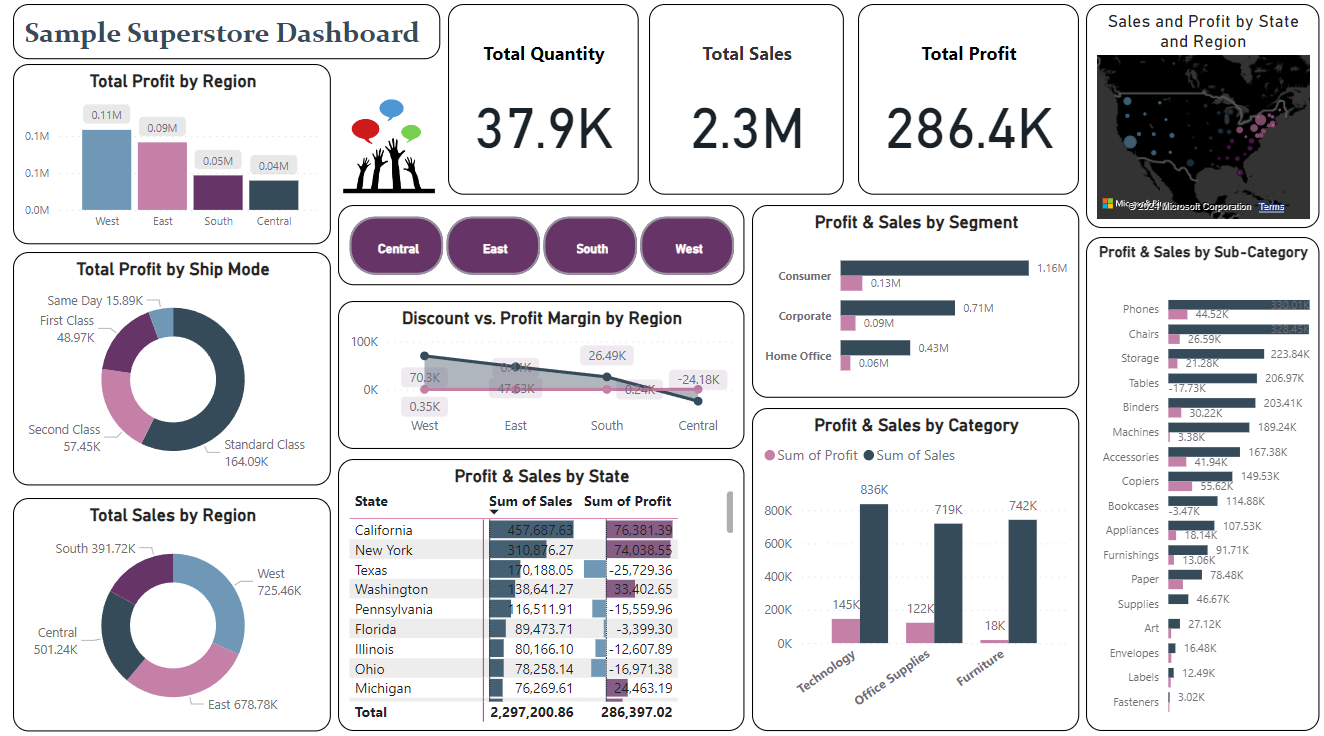

This screenshot's page, from the dashboard's own definition file:
{"tool":"powerbi","page":{"name":"Page 1","canvas":[1280,720],"ordinal":0},"visuals":[{"type":"map","fields":{"Category":["SampleSuperstore.State"],"Size":["Sum(SampleSuperstore.Sales)"],"Series":["SampleSuperstore.Region"]},"box":[1041.9,9.7,223.5,214.8],"z":0},{"type":"clusteredBarChart","title":"Profit vs. Sales by Segment","fields":{"Category":["SampleSuperstore.Segment"],"Y":["Sum(SampleSuperstore.Sales)","Sum(SampleSuperstore.Profit)"]},"box":[714.4,233.3,313.9,153.6],"z":1000},{"type":"donutChart","title":"Sales by Region","fields":{"Y":["Sum(SampleSuperstore.Sales)"],"Category":["SampleSuperstore.Region"]},"box":[12.6,484,305.2,223.5],"z":2000},{"type":"actionButton","box":[0,0,100,40],"z":3000},{"type":"cardVisual","fields":{"Data":["Sum(SampleSuperstore.Sales)"]},"box":[625.9,9.7,176.9,214.8],"z":4000},{"type":"clusteredBarChart","title":"Profit vs. Sales by Sub-Category ","fields":{"Category":["SampleSuperstore.Sub-Category"],"Y":["Sum(SampleSuperstore.Sales)","Sum(SampleSuperstore.Profit)"]},"box":[1041.9,233.3,223.5,474.3],"z":5000},{"type":"areaChart","title":"Discount vs. Profit by Region","fields":{"Category":["SampleSuperstore.Region"],"Y":["Sum(SampleSuperstore.Profit Margin)","Sum(SampleSuperstore.Discount)"]},"box":[324.6,555.9,372.2,151.6],"z":6000},{"type":"pieChart","title":"Profit by State","fields":{"Y":["Sum(SampleSuperstore.Profit)"],"Category":["SampleSuperstore.State"]},"box":[324.6,317.8,372.2,224.5],"z":7000},{"type":"cardVisual","fields":{"Data":["Sum(SampleSuperstore.Quantity)"]},"box":[429.6,9.7,182.7,214.8],"z":8000},{"type":"donutChart","title":"Profit by Ship Mode","fields":{"Y":["Sum(SampleSuperstore.Profit)"],"Category":["SampleSuperstore.Ship Mode"]},"box":[12.6,247.8,305.2,223.5],"z":9000},{"type":"cardVisual","fields":{"Data":["Sum(SampleSuperstore.Profit)"]},"box":[816.4,9.7,211.9,214.8],"z":10000},{"type":"advancedSlicerVisual","fields":{"Values":["SampleSuperstore.Region"]},"box":[324.6,233.3,372.2,76.8],"z":11000},{"type":"columnChart","title":"Profit by Region","fields":{"Category":["SampleSuperstore.Region"],"Y":["Sum(SampleSuperstore.Profit)"],"Series":["SampleSuperstore.Region"]},"box":[12.6,67.1,305.2,173],"z":12000},{"type":"textbox","box":[12.6,9.7,410.1,53.5],"z":13000},{"type":"image","box":[324.6,67.1,98.2,157.4],"z":14000},{"type":"clusteredColumnChart","title":"Profit vs. Sales by Category","fields":{"Y":["Sum(SampleSuperstore.Profit)","Sum(SampleSuperstore.Sales)"],"Category":["SampleSuperstore.Category"]},"box":[714.4,399.5,313.9,308.1],"z":15000}]}

Visuals, with their boxes in screenshot pixels (x1, y1, x2, y2), scaled from the page's 1280x720 canvas onto the 1324x736 screenshot:
map - SampleSuperstore.State x Sum(SampleSuperstore.Sales): x1=1078 y1=10 x2=1309 y2=229
"Profit vs. Sales by Segment" clusteredBarChart: x1=739 y1=238 x2=1064 y2=395
"Sales by Region" donutChart: x1=13 y1=495 x2=329 y2=723
actionButton: x1=0 y1=0 x2=103 y2=41
cardVisual - Sum(SampleSuperstore.Sales): x1=647 y1=10 x2=830 y2=229
"Profit vs. Sales by Sub-Category " clusteredBarChart: x1=1078 y1=238 x2=1309 y2=723
"Discount vs. Profit by Region" areaChart: x1=336 y1=568 x2=721 y2=723
"Profit by State" pieChart: x1=336 y1=325 x2=721 y2=554
cardVisual - Sum(SampleSuperstore.Quantity): x1=444 y1=10 x2=633 y2=229
"Profit by Ship Mode" donutChart: x1=13 y1=253 x2=329 y2=482
cardVisual - Sum(SampleSuperstore.Profit): x1=844 y1=10 x2=1064 y2=229
advancedSlicerVisual - SampleSuperstore.Region: x1=336 y1=238 x2=721 y2=317
"Profit by Region" columnChart: x1=13 y1=69 x2=329 y2=245
textbox: x1=13 y1=10 x2=437 y2=65
image: x1=336 y1=69 x2=437 y2=229
"Profit vs. Sales by Category" clusteredColumnChart: x1=739 y1=408 x2=1064 y2=723
